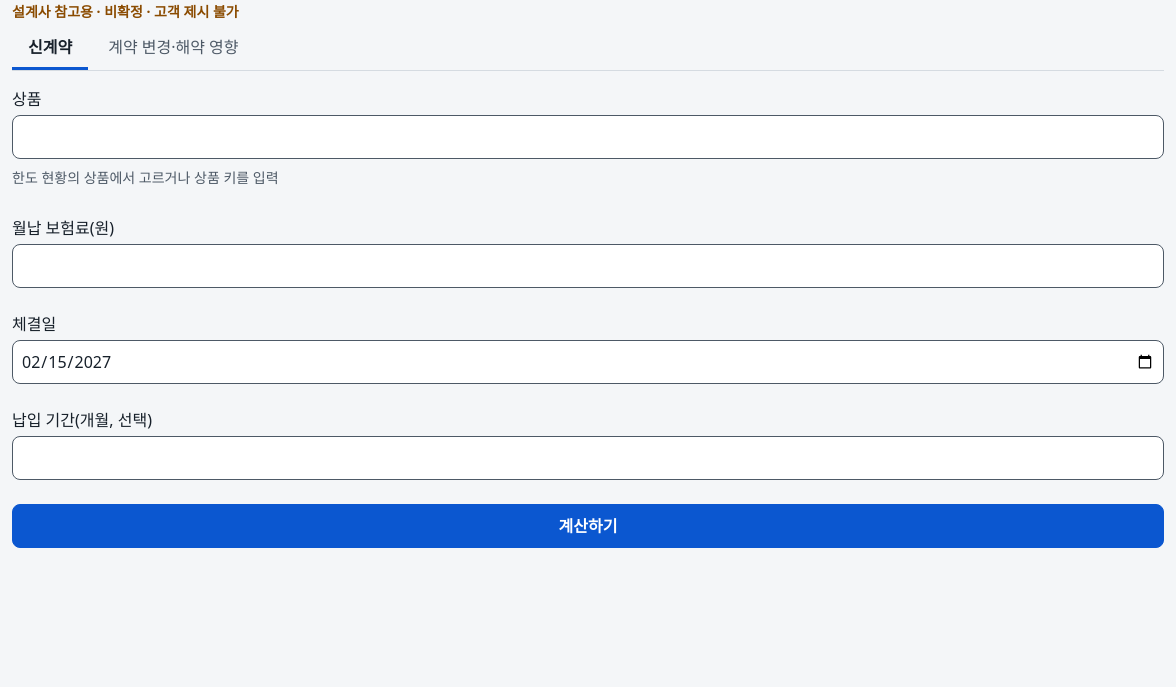
Scenario: simulation › 422 INSURER_AMBIGUOUS opens the insurer field; the retry carries insurerCd
The image size is (1176, 687).
Type "WHOLE-LIFE-20Y" into the field labelled "상품 한도 현황의 상품에서 고르거나 상품 키를 입력". click: (588, 137)
box: [12,115,1164,159]
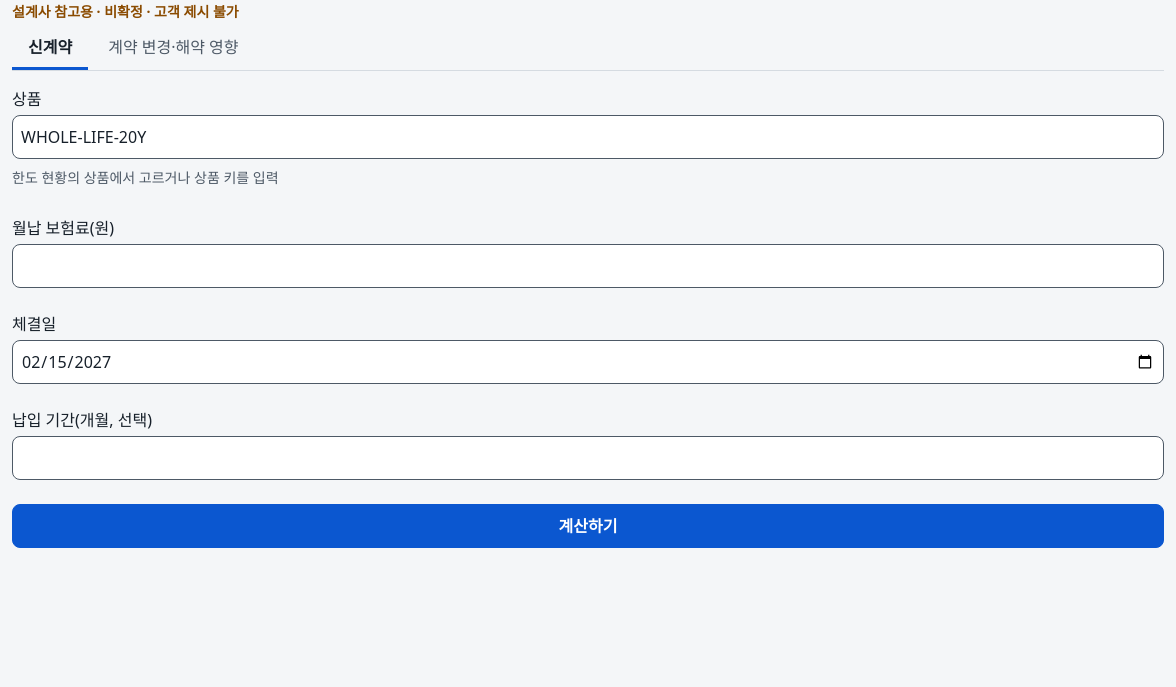
Type "150000" into the field labelled "월납 보험료(원)". click: (588, 266)
box: [12,244,1164,288]
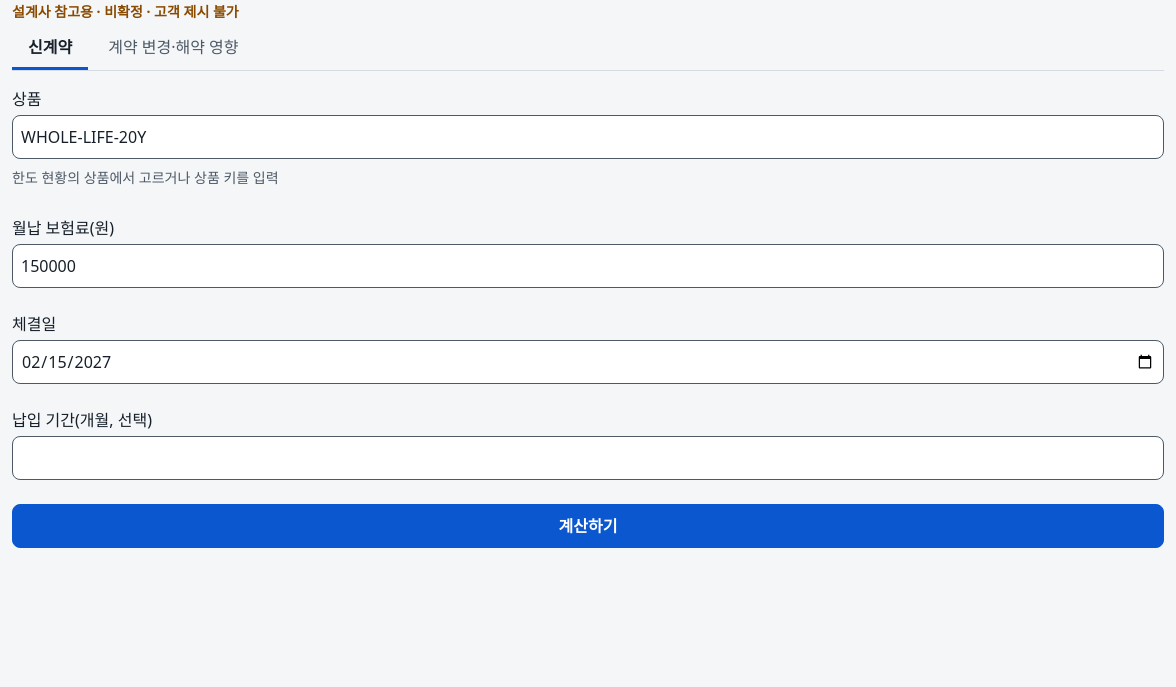
Submit the form with test id "form-new"
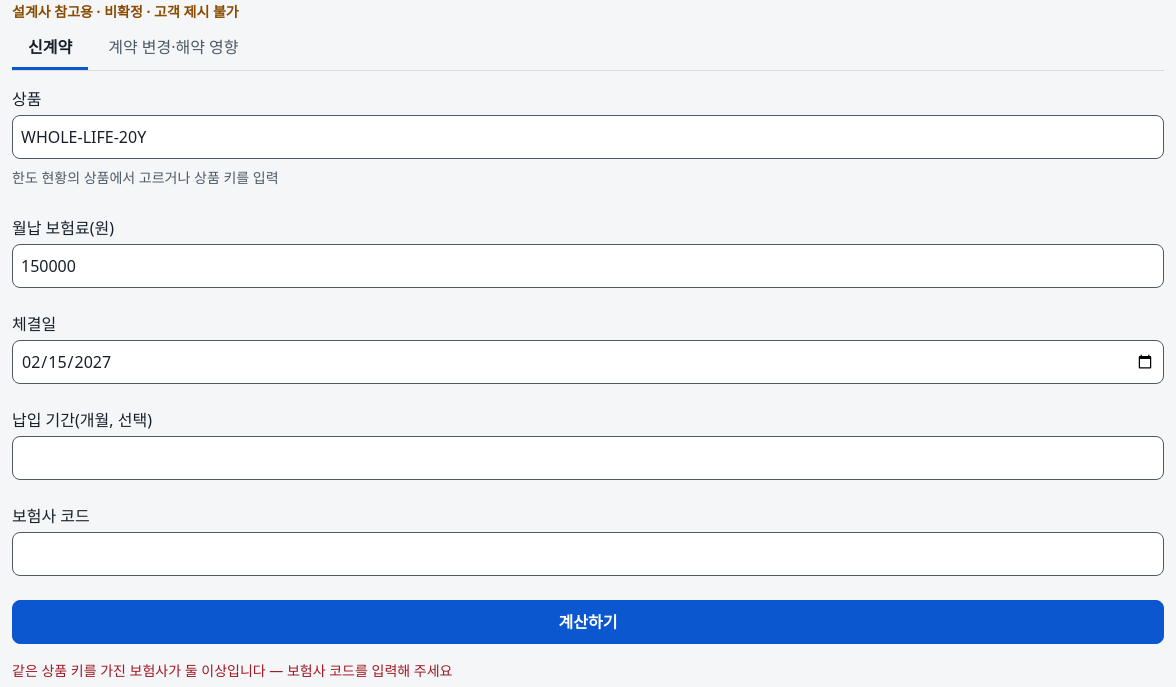
Check: the message with test id "sim-error" reads "같은 상품 키를 가진 보험사가 둘 이상입니다 — 보험사 코드를 입력해 주세요", box [12,661,452,680]
Type "SAMLIFE" into the field labelled "보험사 코드". click: (588, 554)
box: [12,532,1164,576]
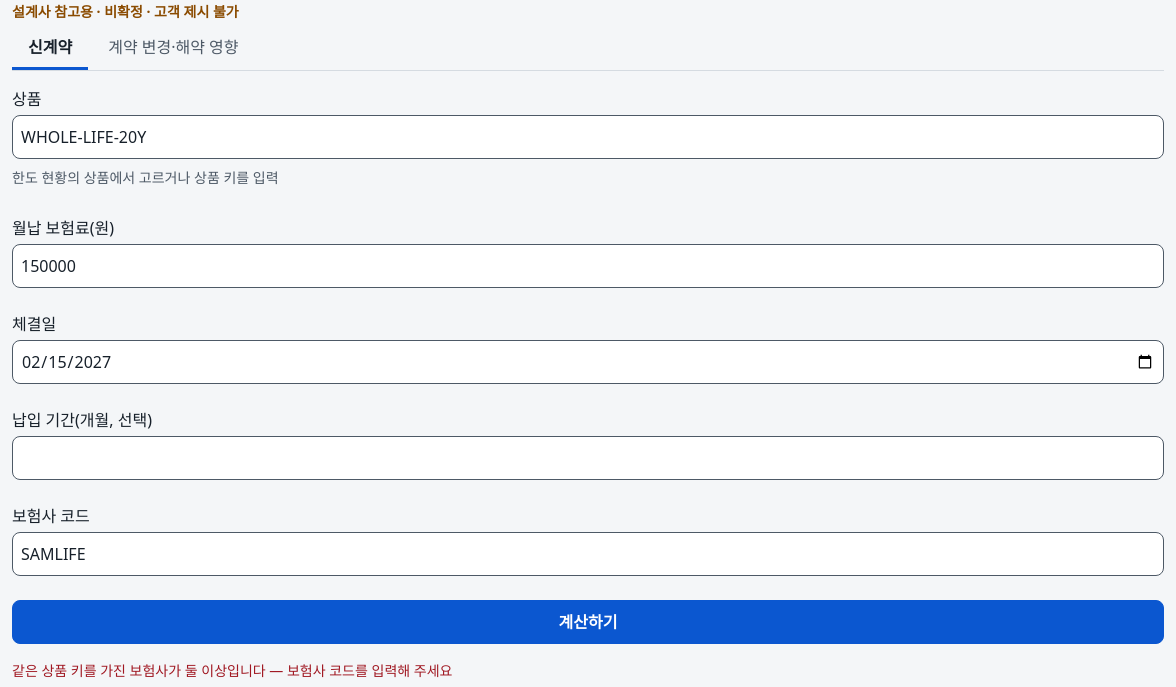
Submit the form with test id "form-new"
(page scrolled)
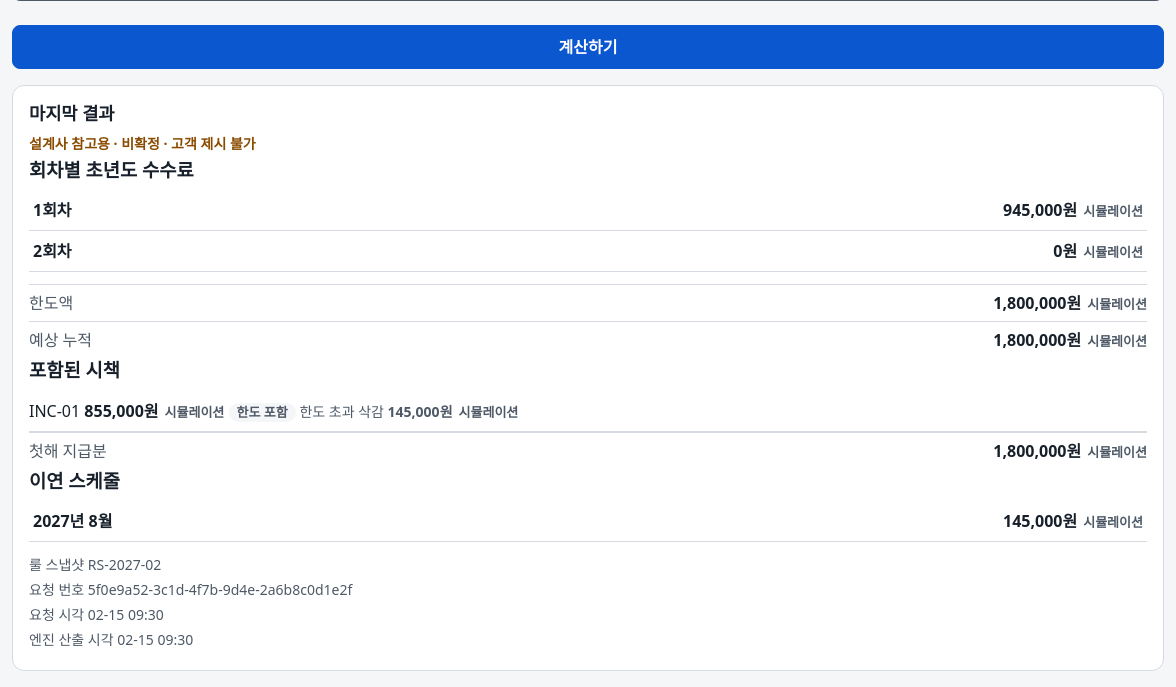
Check: the element with test id "sim-result-new" is shown
